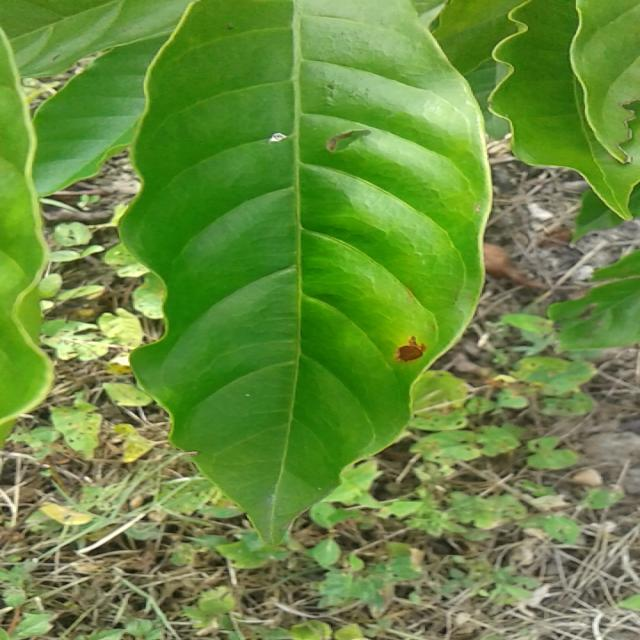Enfermedad-Roya: (117, 0, 494, 550)
